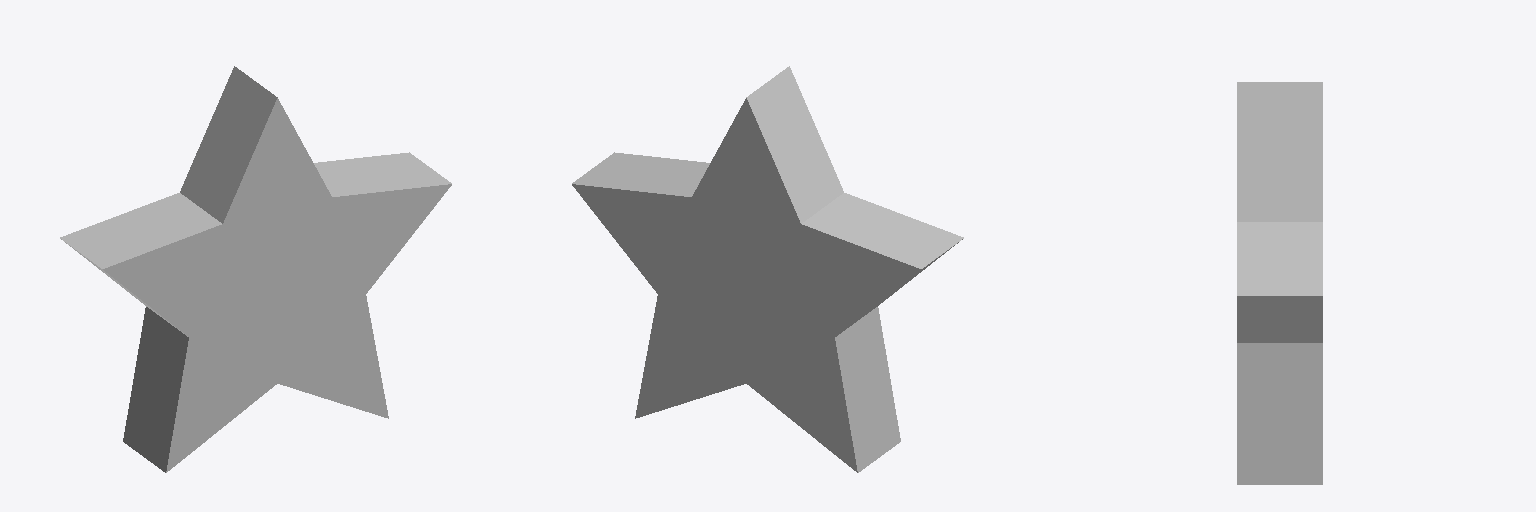
Rendered from star.obj.
3 views of the same model, side by side, from view 1: azimuth 30°, elevation 25°; view 2: azimuth 150°, elevation 25°; view 3: azimuth 270°, elevation 25° (orthographic).
Parts seen in each view (by area): view 1: Cube_Cube.001; view 2: Cube_Cube.001; view 3: Cube_Cube.001.
Boxes of the visible parts, box(x1,y1,x2,y2) form: Cube_Cube.001: box(60, 66, 451, 472); Cube_Cube.001: box(572, 66, 963, 472); Cube_Cube.001: box(1237, 82, 1322, 484).
Size of the model in its own units: 0.8166 by 0.7772 by 0.1745.